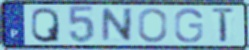5: (66, 4, 97, 46)
G: (173, 7, 205, 44)
N: (100, 7, 135, 44)
O: (137, 7, 169, 44)
Q: (30, 6, 62, 44)
T: (211, 7, 238, 45)
